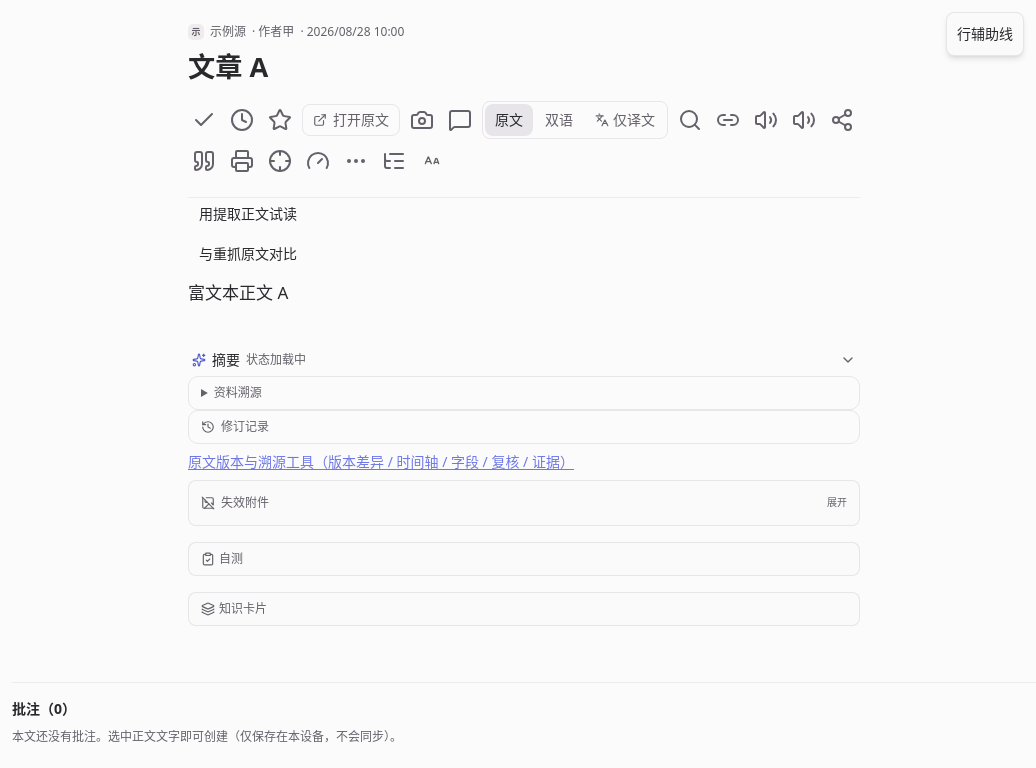
Test: F19 — 朗读 › utterance onerror → 行内诚实报错并复位
Expected: the heading "文章 A" is shown, [188,48,268,85]
Click the button named "朗读".
click(766, 120)  # box [750,104,782,136]
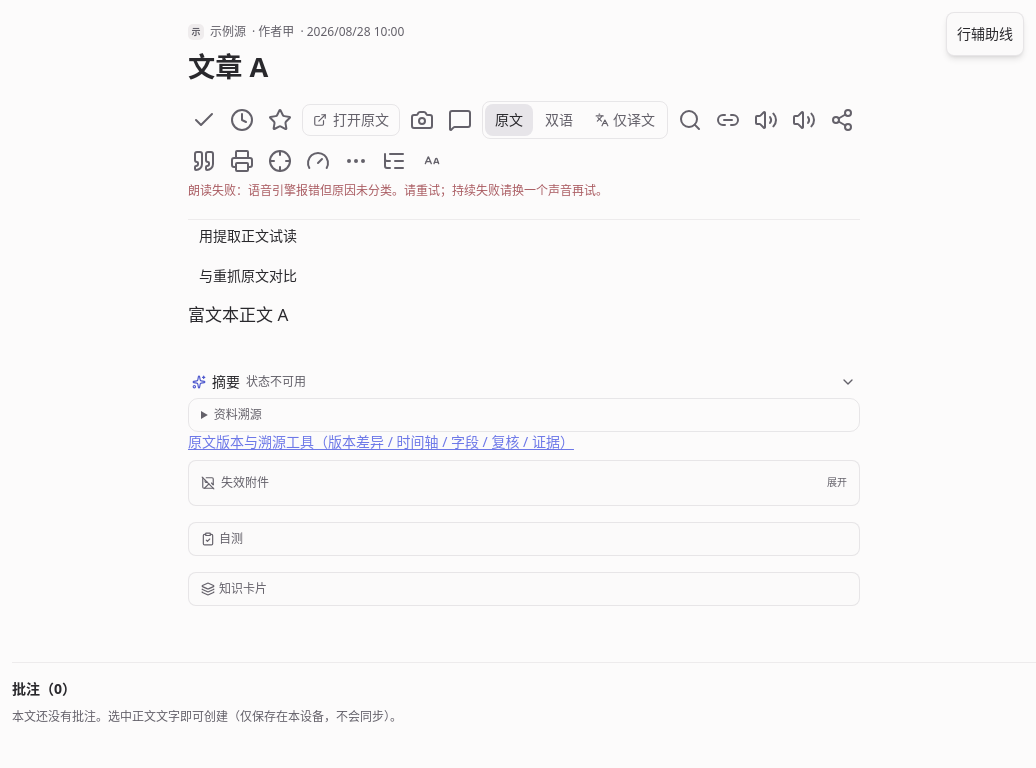
Expected: the text "朗读失败：语音引擎报错但原因未分类。请重试；持续失败请换一个声音再试。" is shown, [188,183,608,199]
